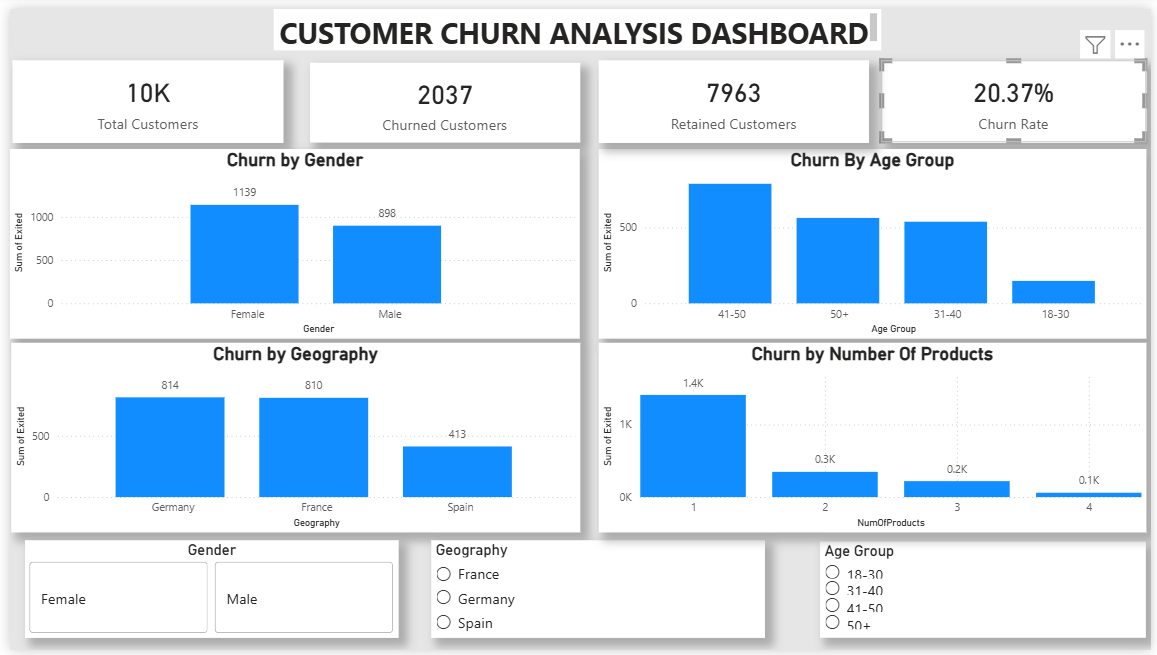

The page's visual inventory and layout, read from the dashboard file:
{"tool":"powerbi","page":{"name":"Page 1","canvas":[1280,720],"ordinal":0},"visuals":[{"type":"card","fields":{"Values":["Churn_Modelling.Total Customers"]},"box":[2.8,57.5,304.3,92.6],"z":0},{"type":"card","fields":{"Values":["Churn_Modelling.Churned Customers"]},"box":[336.5,60.3,302.9,89.7],"z":1000},{"type":"card","fields":{"Values":["Churn_Modelling.Churn Rate"]},"box":[977.4,57.5,297.3,92.6],"z":2000},{"type":"clusteredColumnChart","title":"Churn by Gender","fields":{"Category":["Churn_Modelling.Gender"],"Y":["Sum(Churn_Modelling.Exited)"]},"box":[0,157.1,639.4,213.1],"z":3000},{"type":"clusteredColumnChart","title":"Churn by Geography","fields":{"Category":["Churn_Modelling.Geography"],"Y":["Sum(Churn_Modelling.Exited)"]},"box":[1.4,374.4,638,213.1],"z":4000},{"type":"clusteredColumnChart","title":"Churn By Age Group","fields":{"Category":["Churn_Modelling.Age Group"],"Y":["Sum(Churn_Modelling.Exited)"]},"box":[660.5,157.1,614.2,213.1],"z":5000},{"type":"advancedSlicerVisual","fields":{"Values":["Churn_Modelling.Gender"]},"box":[16.8,596,419.3,109.4],"z":6000},{"type":"listSlicer","fields":{"Values":["Churn_Modelling.Geography"]},"box":[472.6,596,374.4,109.4],"z":7000},{"type":"listSlicer","fields":{"Values":["Churn_Modelling.Age Group"]},"box":[908.7,597.4,366,108],"z":8000},{"type":"card","fields":{"Values":["Churn_Modelling.Retained Customers"]},"box":[660.5,57.5,302.9,92.6],"z":9000},{"type":"clusteredColumnChart","title":"Churn by Number Of Products","fields":{"Category":["Churn_Modelling.NumOfProducts"],"Y":["Sum(Churn_Modelling.Exited)"]},"box":[660.5,374.4,614.2,213.1],"z":10000},{"type":"textbox","box":[295.9,0,681.5,46.3],"z":11000}]}

Visuals, with their boxes in screenshot pixels (x1, y1, x2, y2), scaled from the page's 1280x720 canvas onto the 1157x655 screenshot:
card - Churn_Modelling.Total Customers: 3 52 278 137
card - Churn_Modelling.Churned Customers: 304 55 578 136
card - Churn_Modelling.Churn Rate: 883 52 1152 137
"Churn by Gender" clusteredColumnChart: 0 143 578 337
"Churn by Geography" clusteredColumnChart: 1 341 578 534
"Churn By Age Group" clusteredColumnChart: 597 143 1152 337
advancedSlicerVisual - Churn_Modelling.Gender: 15 542 394 642
listSlicer - Churn_Modelling.Geography: 427 542 766 642
listSlicer - Churn_Modelling.Age Group: 821 543 1152 642
card - Churn_Modelling.Retained Customers: 597 52 871 137
"Churn by Number Of Products" clusteredColumnChart: 597 341 1152 534
textbox: 267 0 883 42
